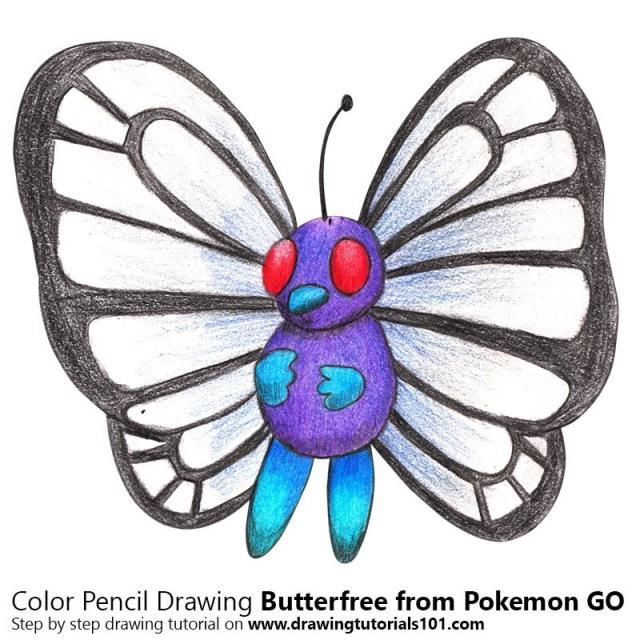Butterfree: (151, 119, 509, 552)
